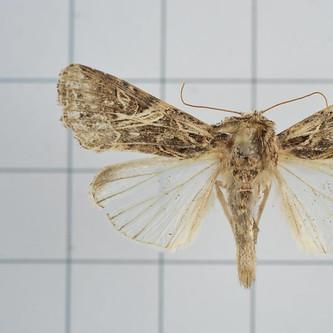Spodoptera litura: (56, 63, 333, 290)
